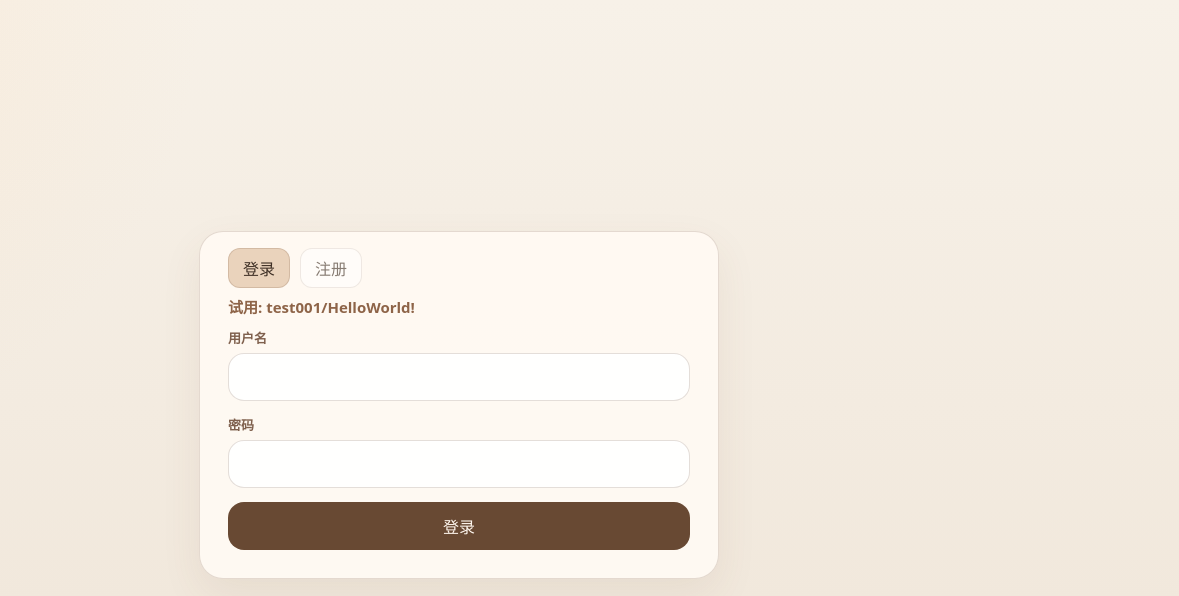
Test: LoginPage › shows localized login error in toast
This screenshot has width=1179, height=596.
Type "test001" into the field labelled "用户名" at (459, 377), box [228, 353, 690, 401]
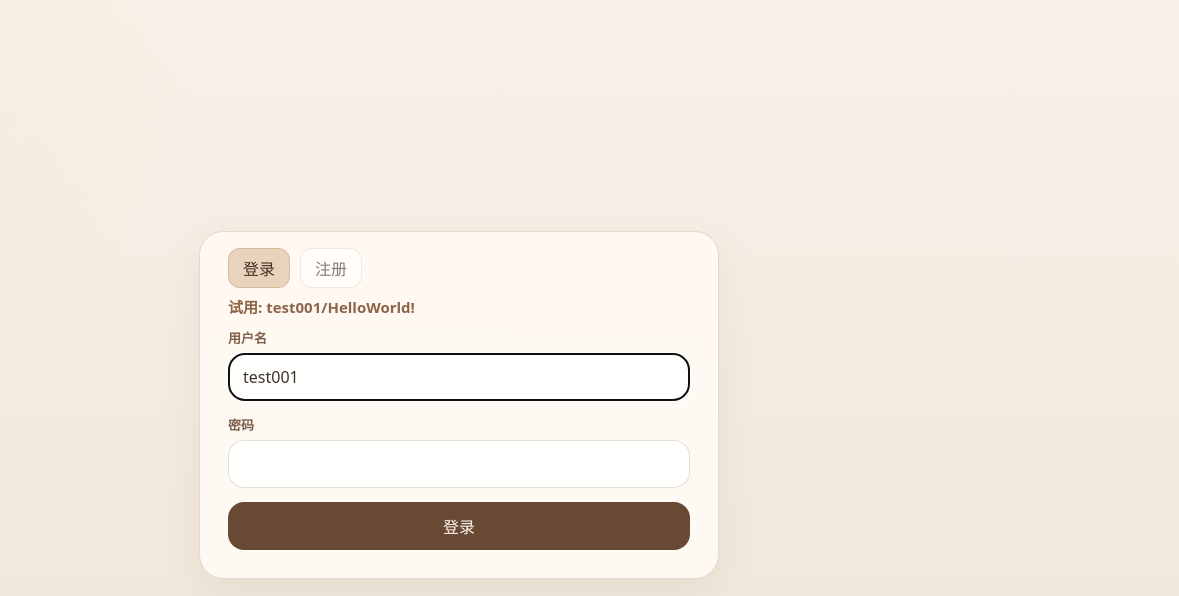
Type "wrong-password" into the password field labelled "密码" at (459, 464), box [228, 440, 690, 488]
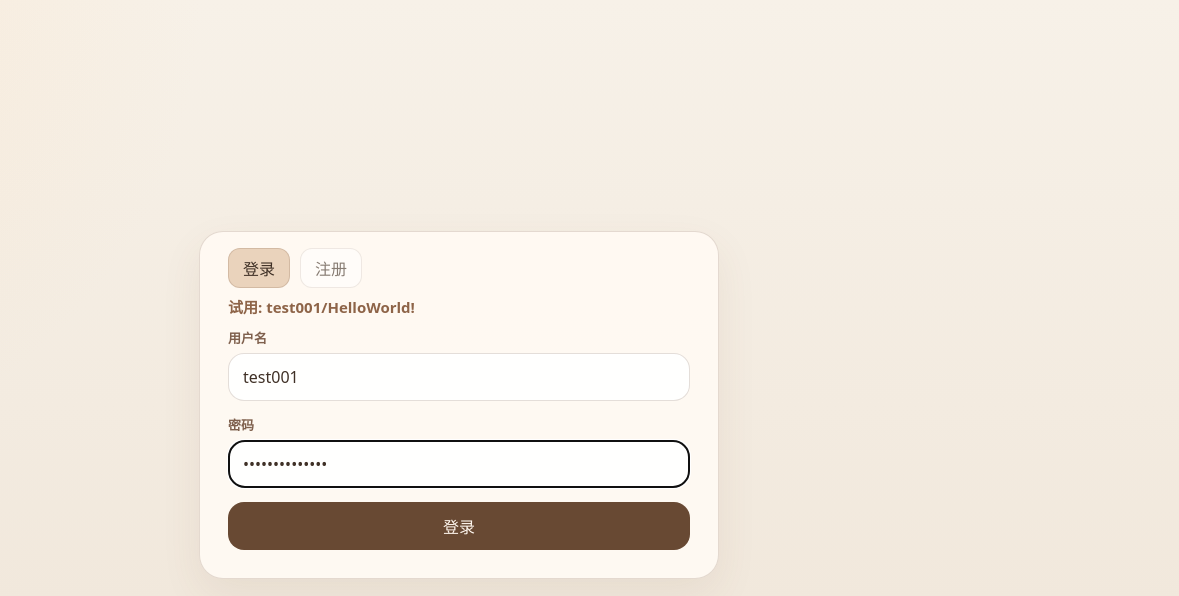
Click the button "登录" below "密码" at (459, 526), box [228, 502, 690, 550]
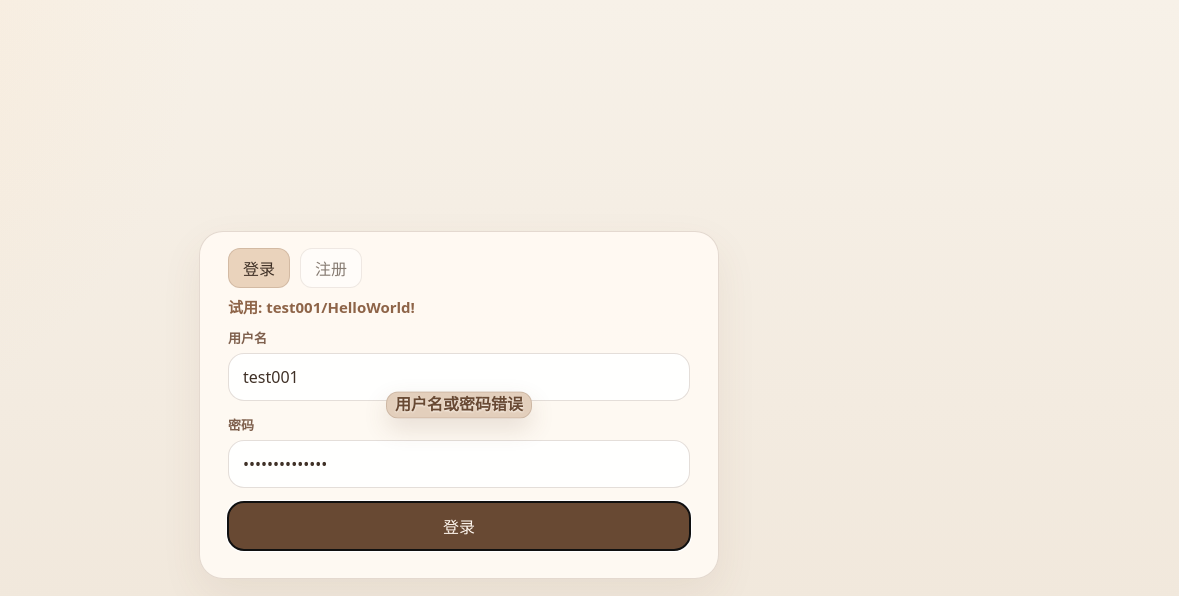
Expected: the text "用户名或密码错误" is shown, [395, 395, 523, 415]
